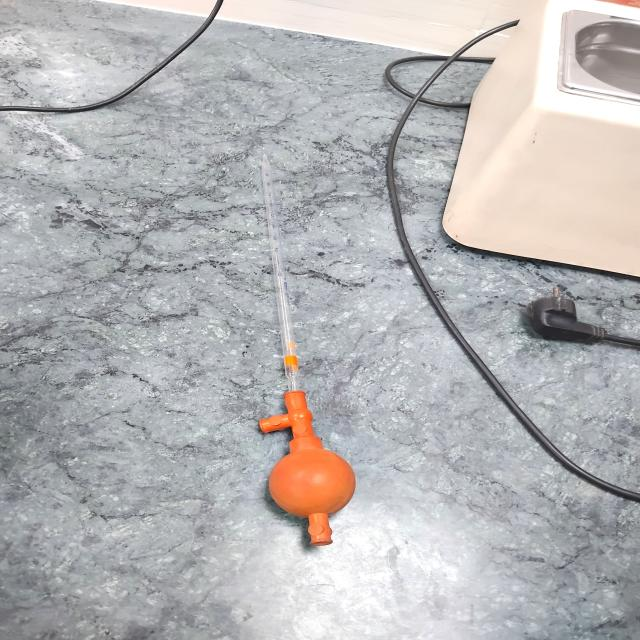Volumetric_Pipet: (202, 127, 377, 553)
